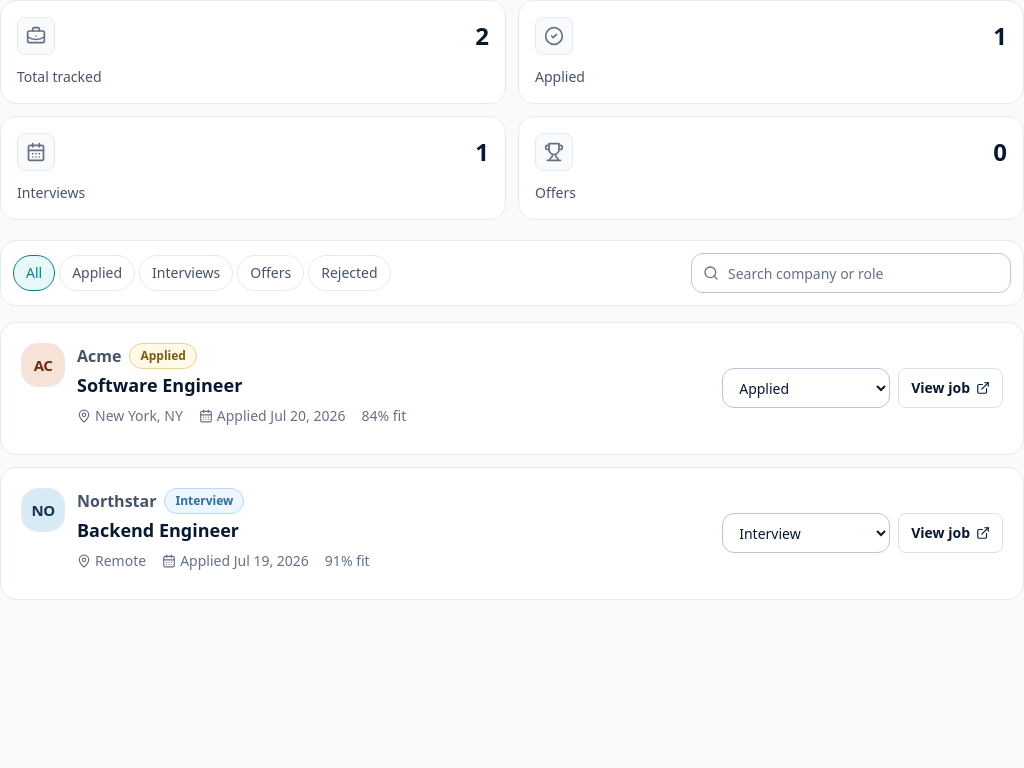
Test: TrackerClient › XpertApply visual semantics › offers a way forward only when the tracker is genuinely empty
Expected: the heading "Software Engineer" is shown, [77,373,242,397]
# A search that matched nothing needs a different query, not a new job.
Type "zzzzz" into the field named "Search applications". click: (851, 273)
box: [691,253,1011,293]
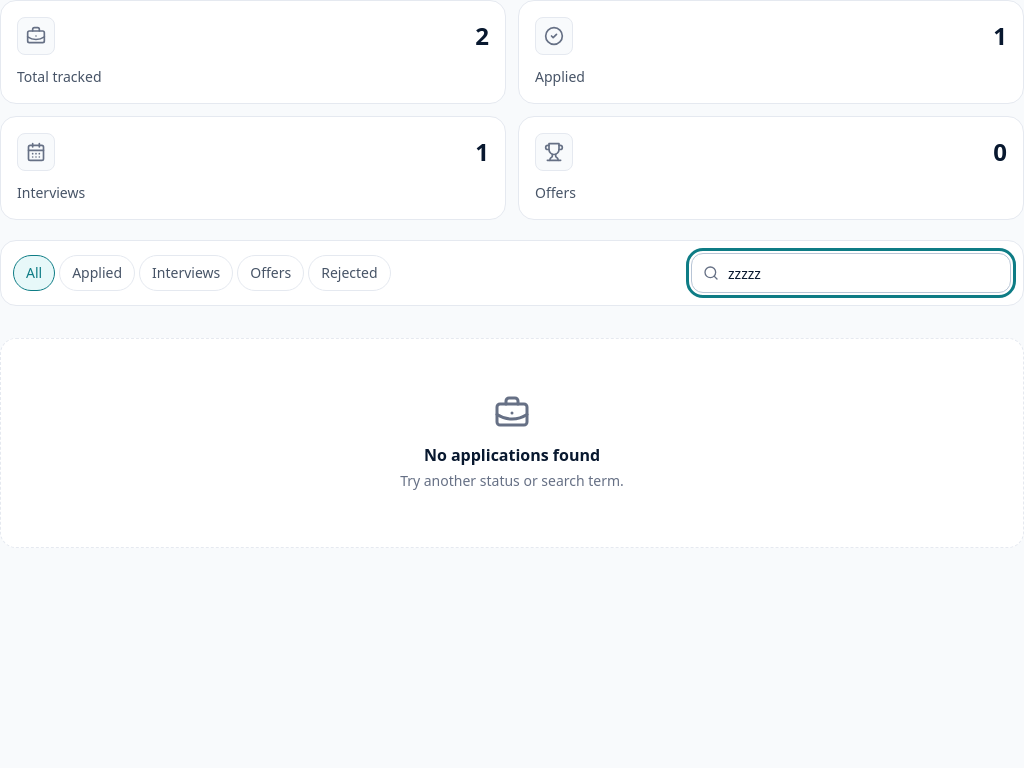
Now the heading "No applications found" is shown, box [424,444,600,466]
